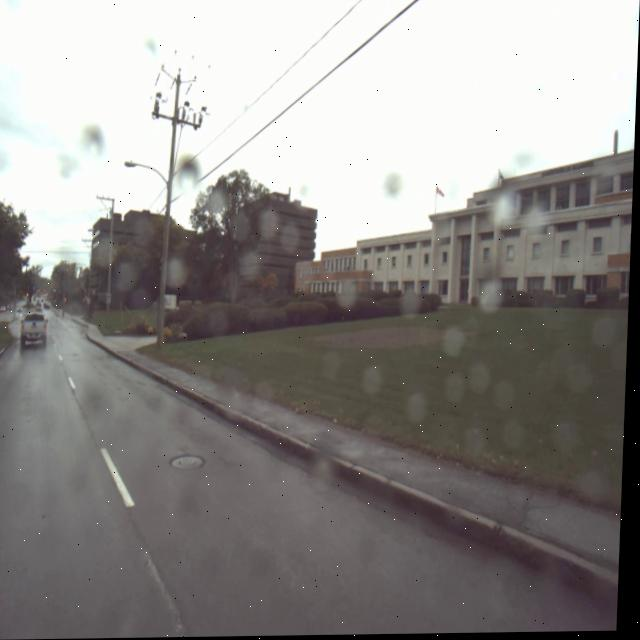car: (22, 313, 52, 351)
